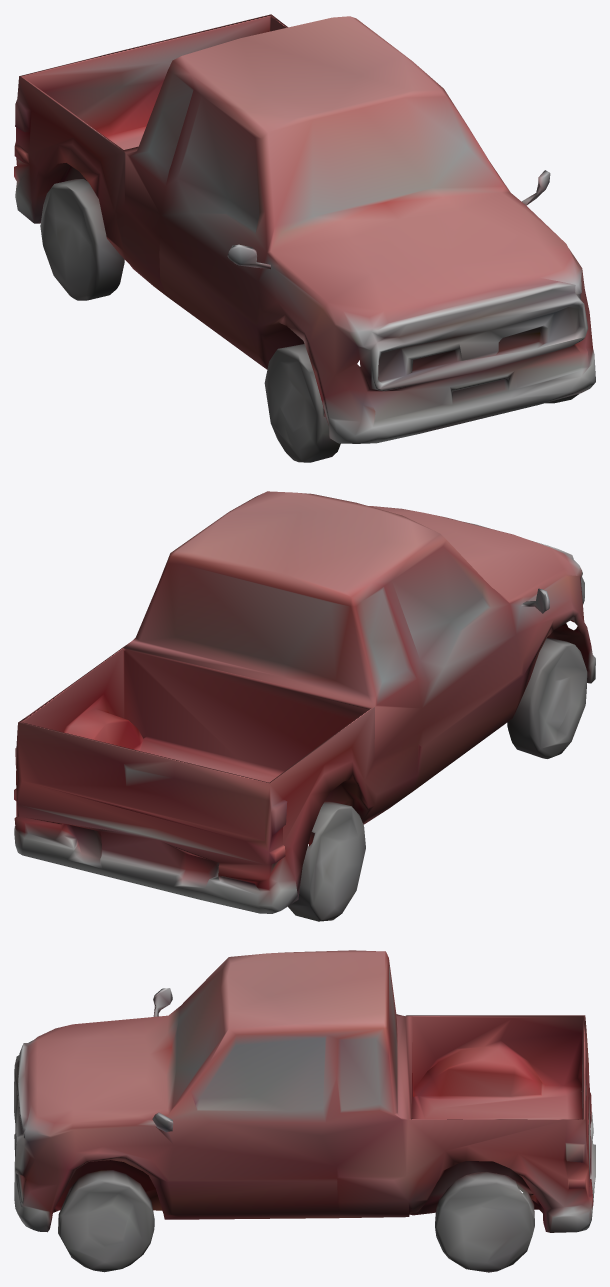
Rendered from truck_near.glb.
The picture shows the model from 3 angles, top to bottom: view 1: azimuth 30°, elevation 25°; view 2: azimuth 150°, elevation 25°; view 3: azimuth 270°, elevation 25°; orthographic projection. The views are drawn at different scales.
Visible parts, largest first — view 1: truck; view 2: truck; view 3: truck.
Boxes of the visible parts, x1,y1,x2,y2 form: truck: (14,14,595,462); truck: (14,491,595,921); truck: (14,950,595,1272).
Bounding box in the file's own units: 1.22 × 1 × 2.25.
